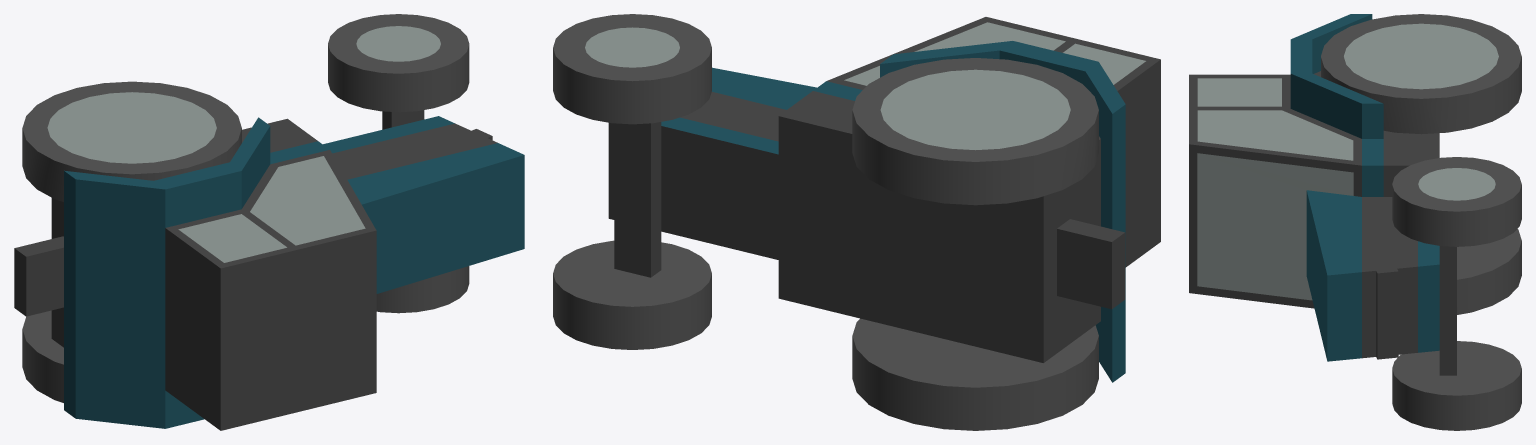
File: tractor.dae
3 renders of one model, left to right at view 1: azimuth 30°, elevation 25°; view 2: azimuth 150°, elevation 25°; view 3: azimuth 270°, elevation 25°, orthographic. The views are drawn at different scales.
Visible parts, largest first — view 1: coords_ME_ID31_MA___auto_, coords_ME_ID37_MA___auto_275, coords_ME_ID65_MA___auto_275, coords_ME_ID3_MA_material, coords_ME_ID83_MA___auto_8, coords_ME_ID45_MA_material, coords_ME_ID125_MA___auto_8, coords_ME_ID51_MA___auto_, coords_ME_ID11_MA___auto_, coords_ME_ID19_MA_material, coords_ME_ID57_MA___auto_8, coords_ME_ID25_MA_material (+3 smaller); view 2: coords_ME_ID51_MA___auto_, coords_ME_ID19_MA_material, coords_ME_ID45_MA_material, coords_ME_ID25_MA_material, coords_ME_ID3_MA_material, coords_ME_ID83_MA___auto_8, coords_ME_ID37_MA___auto_275, coords_ME_ID31_MA___auto_, coords_ME_ID11_MA___auto_, coords_ME_ID139_MA___auto_8, coords_ME_ID65_MA___auto_275, coords_ME_ID125_MA___auto_8 (+3 smaller); view 3: coords_ME_ID89_MA___auto_8, coords_ME_ID45_MA_material, coords_ME_ID51_MA___auto_, coords_ME_ID25_MA_material, coords_ME_ID65_MA___auto_275, coords_ME_ID3_MA_material, coords_ME_ID83_MA___auto_8, coords_ME_ID37_MA___auto_275, coords_ME_ID31_MA___auto_, coords_ME_ID125_MA___auto_8, coords_ME_ID19_MA_material, coords_ME_ID57_MA___auto_8 (+3 smaller).
Boxes of the visible parts, x1=… form: coords_ME_ID31_MA___auto_: x1=165, y1=150, x2=376, y2=430; coords_ME_ID37_MA___auto_275: x1=64, y1=117, x2=329, y2=428; coords_ME_ID65_MA___auto_275: x1=347, y1=143, x2=524, y2=293; coords_ME_ID3_MA_material: x1=328, y1=14, x2=469, y2=112; coords_ME_ID83_MA___auto_8: x1=47, y1=92, x2=216, y2=163; coords_ME_ID45_MA_material: x1=22, y1=81, x2=241, y2=201; coords_ME_ID125_MA___auto_8: x1=250, y1=156, x2=365, y2=245; coords_ME_ID51_MA___auto_: x1=51, y1=110, x2=497, y2=347; coords_ME_ID11_MA___auto_: x1=14, y1=236, x2=63, y2=316; coords_ME_ID19_MA_material: x1=22, y1=310, x2=63, y2=402; coords_ME_ID57_MA___auto_8: x1=178, y1=214, x2=286, y2=262; coords_ME_ID25_MA_material: x1=376, y1=266, x2=469, y2=313; coords_ME_ID51_MA___auto_: x1=608, y1=92, x2=1100, y2=362; coords_ME_ID19_MA_material: x1=852, y1=318, x2=1098, y2=430; coords_ME_ID45_MA_material: x1=852, y1=58, x2=1098, y2=205; coords_ME_ID25_MA_material: x1=553, y1=240, x2=711, y2=349; coords_ME_ID3_MA_material: x1=553, y1=14, x2=711, y2=124; coords_ME_ID83_MA___auto_8: x1=880, y1=69, x2=1070, y2=150; coords_ME_ID37_MA___auto_275: x1=813, y1=41, x2=1125, y2=382; coords_ME_ID31_MA___auto_: x1=826, y1=17, x2=1160, y2=267; coords_ME_ID11_MA___auto_: x1=1057, y1=219, x2=1125, y2=309; coords_ME_ID139_MA___auto_8: x1=585, y1=27, x2=679, y2=67; coords_ME_ID65_MA___auto_275: x1=712, y1=67, x2=816, y2=109; coords_ME_ID125_MA___auto_8: x1=844, y1=22, x2=1065, y2=85; coords_ME_ID89_MA___auto_8: x1=1197, y1=153, x2=1353, y2=300; coords_ME_ID45_MA_material: x1=1321, y1=14, x2=1521, y2=134; coords_ME_ID51_MA___auto_: x1=1362, y1=165, x2=1456, y2=375; coords_ME_ID25_MA_material: x1=1392, y1=341, x2=1521, y2=430; coords_ME_ID65_MA___auto_275: x1=1306, y1=190, x2=1361, y2=361; coords_ME_ID3_MA_material: x1=1392, y1=157, x2=1521, y2=246; coords_ME_ID83_MA___auto_8: x1=1344, y1=23, x2=1498, y2=89; coords_ME_ID37_MA___auto_275: x1=1290, y1=14, x2=1383, y2=196; coords_ME_ID31_MA___auto_: x1=1189, y1=74, x2=1361, y2=308; coords_ME_ID125_MA___auto_8: x1=1197, y1=110, x2=1353, y2=160; coords_ME_ID19_MA_material: x1=1457, y1=229, x2=1521, y2=314; coords_ME_ID57_MA___auto_8: x1=1197, y1=78, x2=1281, y2=106.
Bounding box in the file's own units: 42.08 × 20.62 × 28.36.
